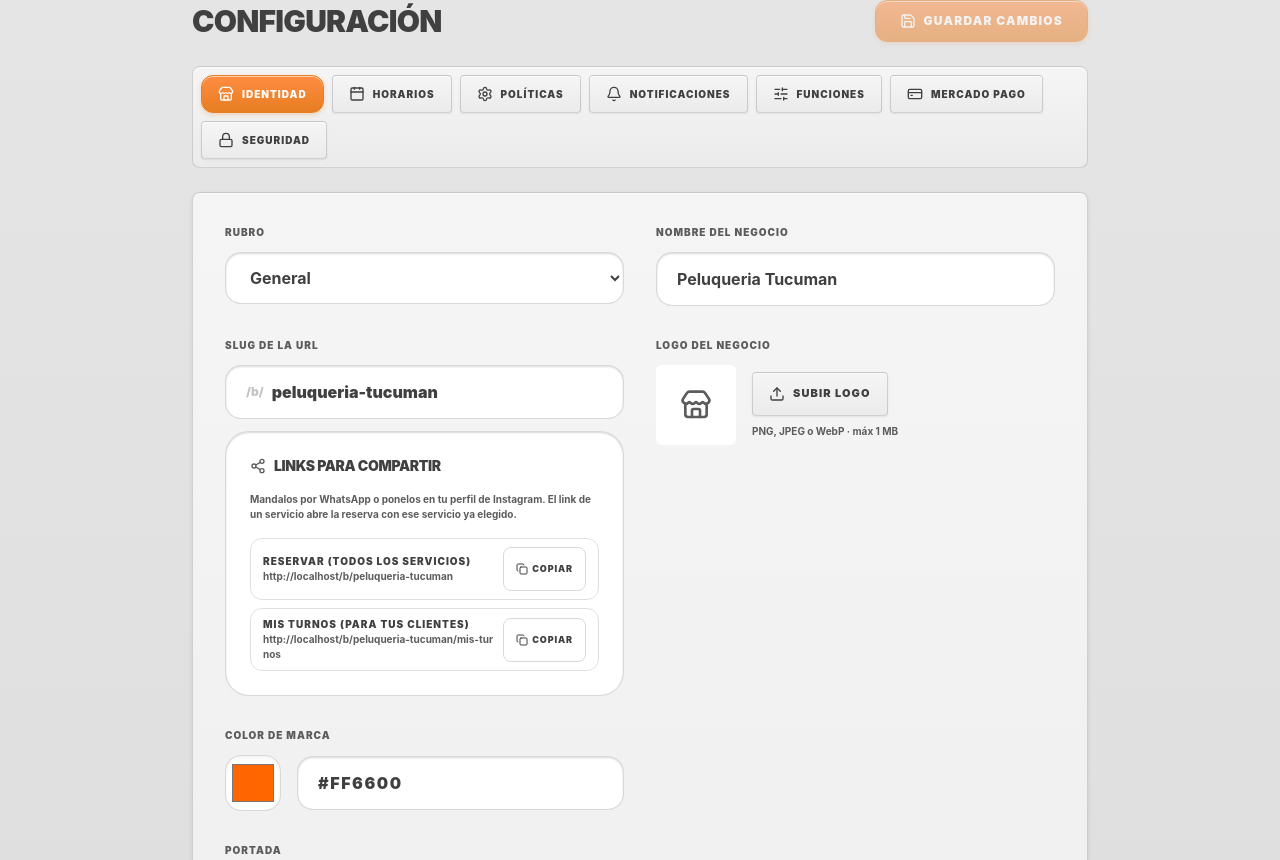
Test: SettingsPage - slug repetido (409) › si solo cambio el slug, el 409 se atribuye al slug y se marca el campo
Replace the text in the field named "Slug de la URL" with "otro-local" at (437, 392), box top-left (272, 380), bottom-right (603, 404)
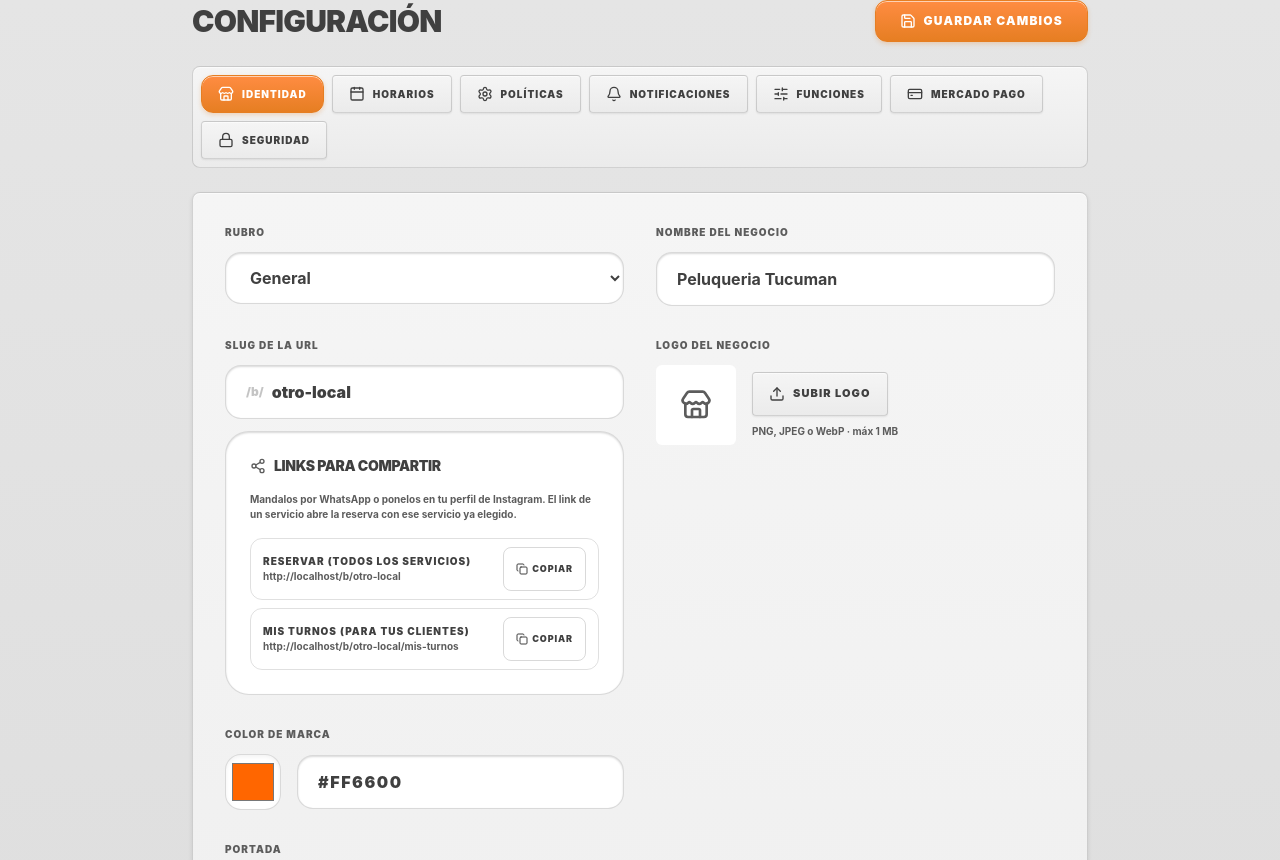
Click the button "Guardar Cambios".
click(981, 21)  # box top-left (874, 0), bottom-right (1088, 42)
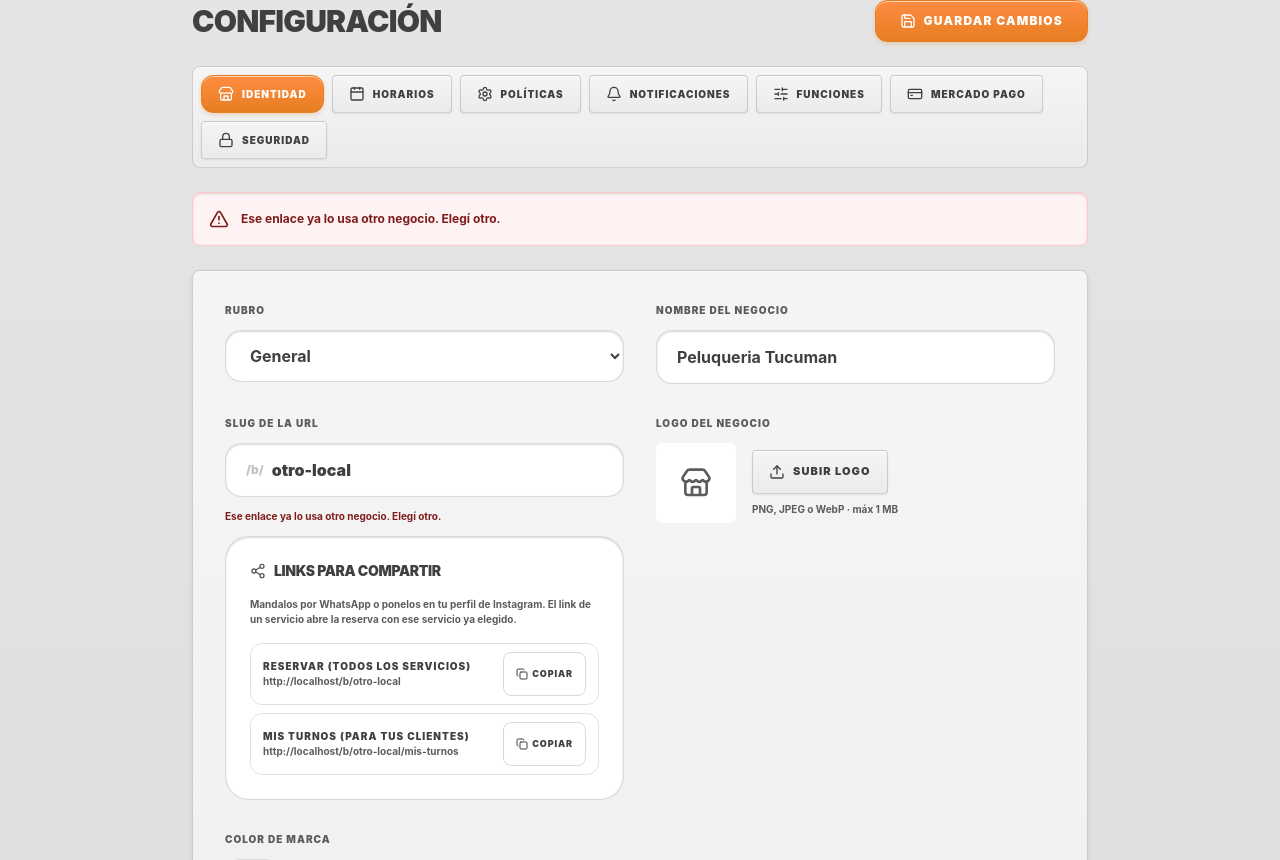
Expected: the text "Ese enlace ya lo usa otro negocio. Elegí otro." is shown 2 times, top-left (241, 211), bottom-right (501, 227); top-left (225, 510), bottom-right (441, 522)
